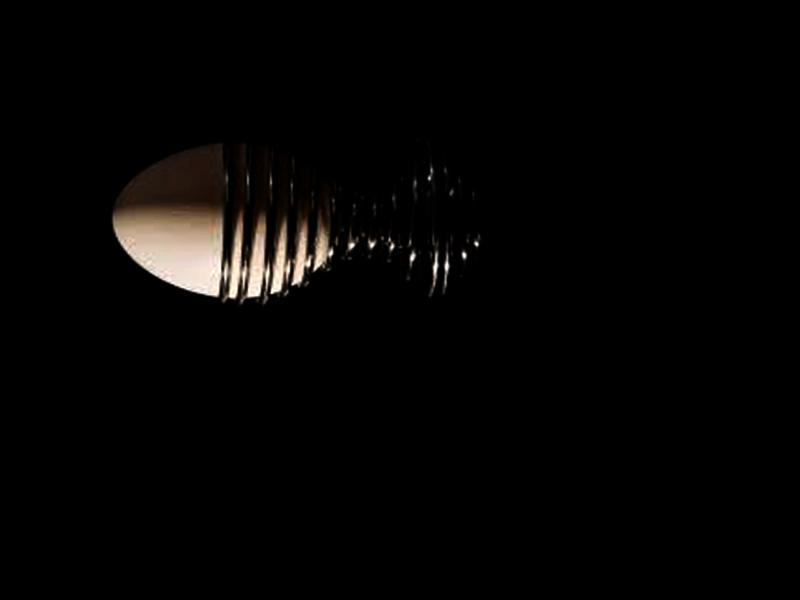Eggs: (108, 140, 335, 302)
